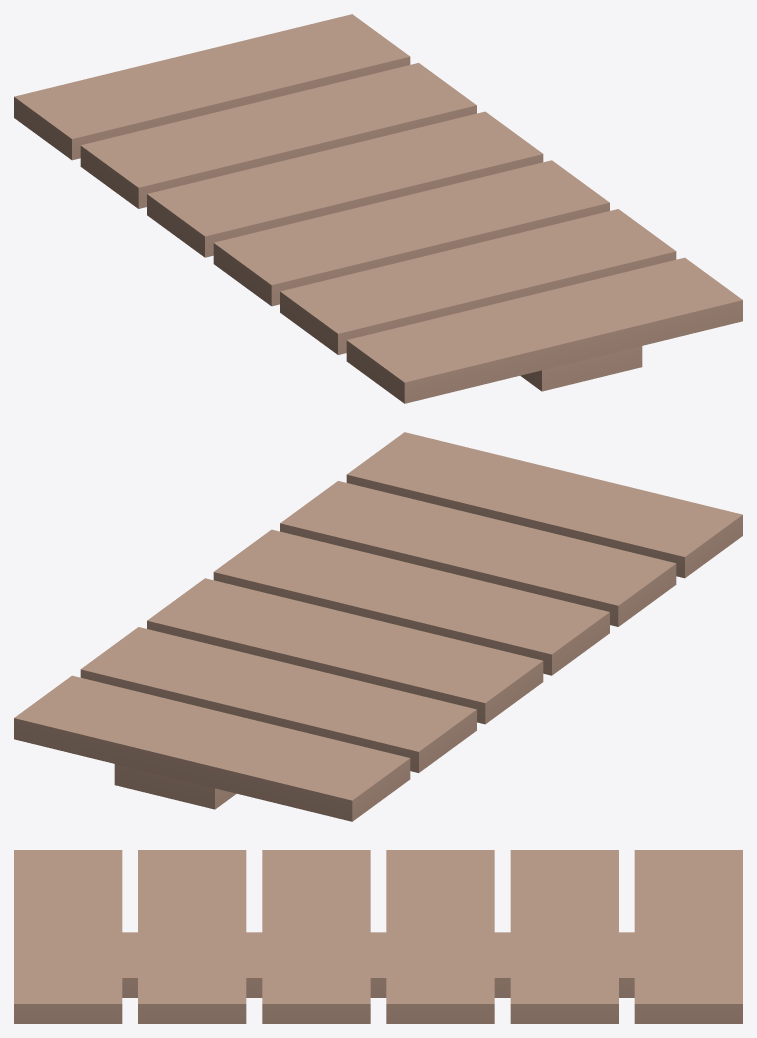
Rendered from planks-half.glb.
3 views of the same model, one above another, from view 1: azimuth 30°, elevation 25°; view 2: azimuth 150°, elevation 25°; view 3: azimuth 270°, elevation 25° (orthographic). The views are drawn at different scales.
Visible parts, largest first — view 1: planks-half; view 2: planks-half; view 3: planks-half.
Part boxes in pixels (x1=…): planks-half: x1=14, y1=14, x2=742, y2=403; planks-half: x1=14, y1=432, x2=742, y2=821; planks-half: x1=14, y1=850, x2=742, y2=1023.
Size of the model in its own units: 0.5 by 0.06 by 1.
